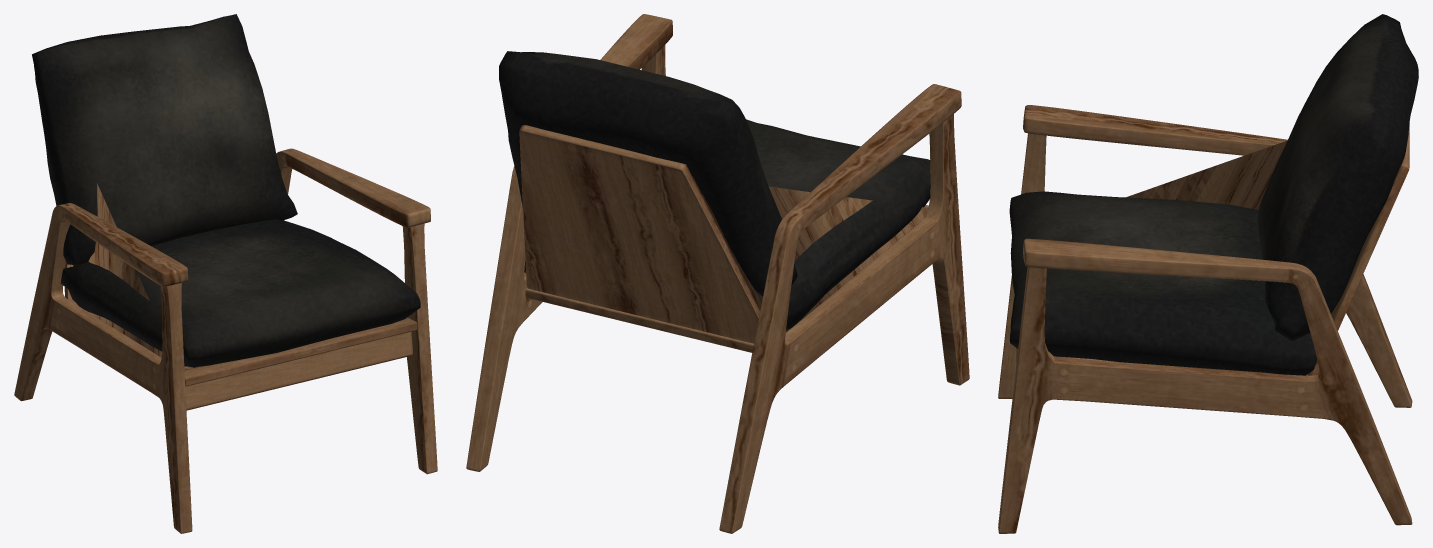
Rendered from modern_arm_chair_01.gltf.
3 renders of one model, left to right at view 1: azimuth 30°, elevation 25°; view 2: azimuth 150°, elevation 25°; view 3: azimuth 270°, elevation 25°, orthographic. The views are drawn at different scales.
Parts seen in each view (by area): view 1: modern_arm_chair_01; view 2: modern_arm_chair_01; view 3: modern_arm_chair_01.
Part boxes in pixels (x1,y1,x2,y2): modern_arm_chair_01: [14, 14, 437, 533]; modern_arm_chair_01: [466, 14, 969, 533]; modern_arm_chair_01: [998, 14, 1418, 533].
Size of the model in its own units: 0.8203 by 1.02 by 0.9866.
2 materials, 2 textured.
